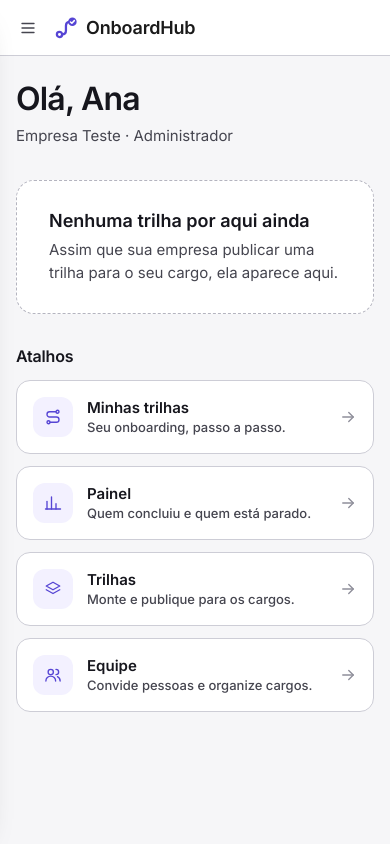
it: menu lateral › abre como gaveta no celular e fecha ao navegar
What coordinates should you click on to do the following:
click the button named "Abrir menu"
I would click on:
 (28, 28)
Its box is [12,12,44,44].
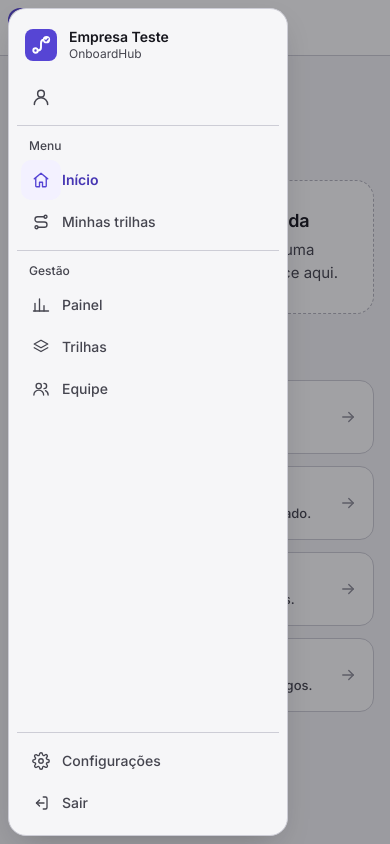
Check: the button named "Abrir menu" is expanded, box [12,12,44,44]
What coordinates should you click on to do the following:
click the link "Minhas trilhas"
I would click on:
 (94, 222)
Its box is [32,213,156,231].
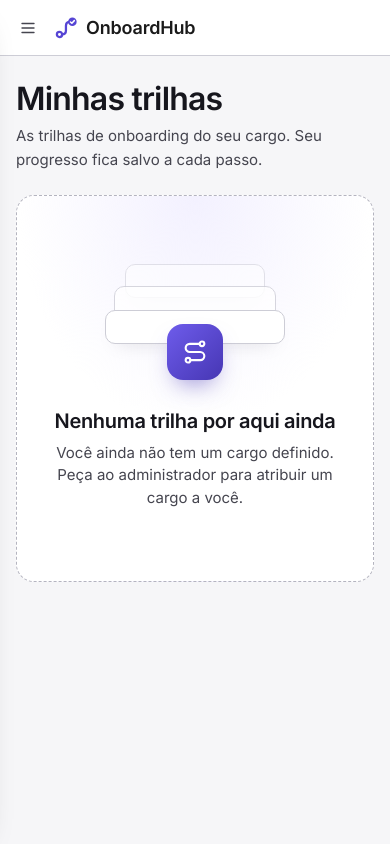
Check: the button named "Abrir menu" is collapsed, box [12,12,44,44]
